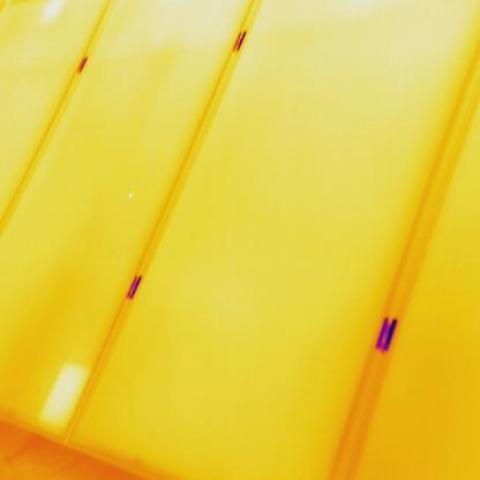fault: (40, 353, 85, 434)
